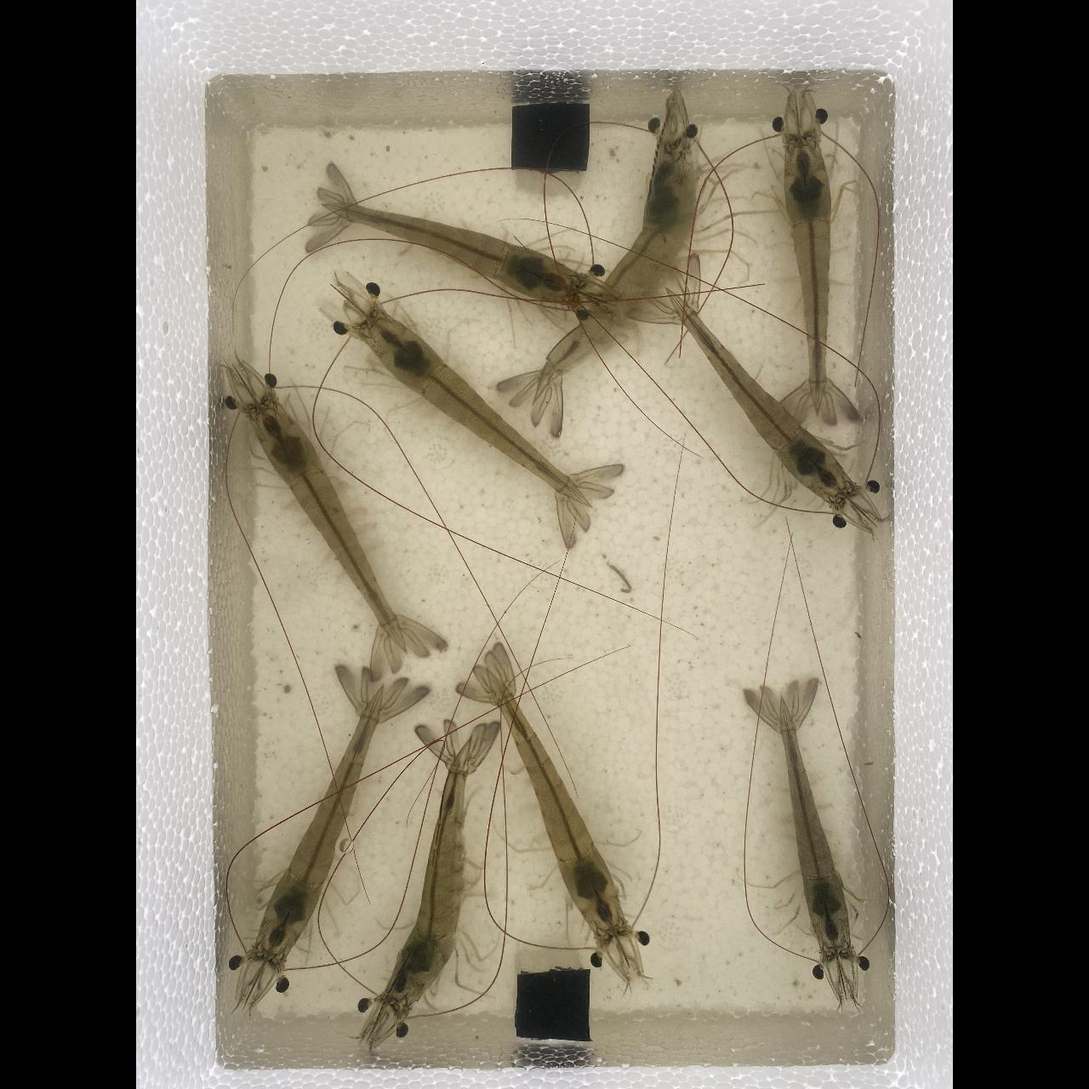box: (512, 100, 590, 170), (516, 968, 590, 1040)
side_shrimp: (532, 154, 697, 400)
top_shrimp: (362, 313, 587, 502), (250, 402, 405, 647), (672, 298, 849, 502), (490, 674, 623, 936), (255, 689, 379, 961), (332, 204, 585, 306), (385, 742, 466, 1009), (781, 703, 849, 953), (783, 136, 829, 410)
